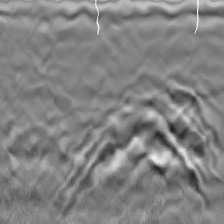Utility: (80, 76, 222, 193)
